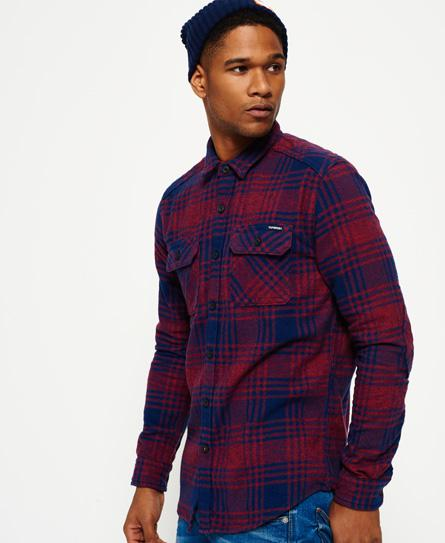teeshirt: (124, 121, 421, 533)
